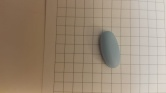Apranax: (98, 30, 122, 70)
